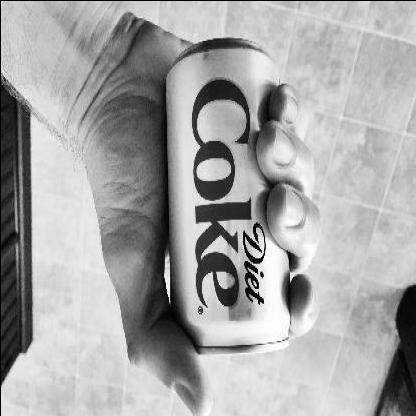alumunium_can: (163, 34, 292, 356)
